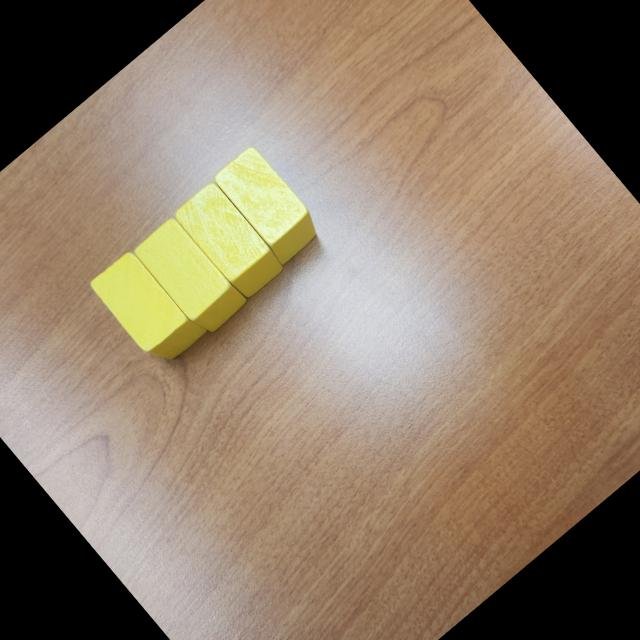yellow: (88, 244, 209, 371), (130, 212, 250, 338), (208, 142, 326, 266), (170, 178, 287, 303)
